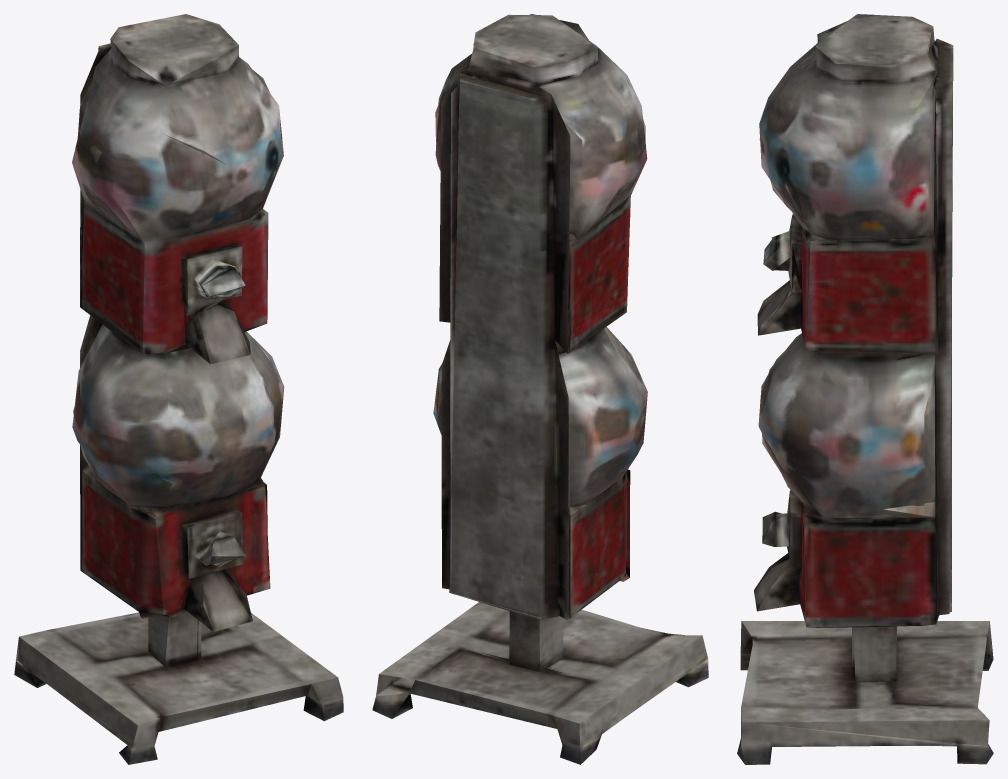
File: p7-capsule-toy-machine.glb
3 renders of one model, left to right at view 1: azimuth 30°, elevation 25°; view 2: azimuth 150°, elevation 25°; view 3: azimuth 270°, elevation 25°, orthographic. The views are drawn at different scales.
Visible parts, largest first — view 1: p7-capsule-toy-machine; view 2: p7-capsule-toy-machine; view 3: p7-capsule-toy-machine.
Boxes of the visible parts, x1,y1,x2,y2 form: p7-capsule-toy-machine: [14, 14, 343, 764]; p7-capsule-toy-machine: [372, 14, 708, 764]; p7-capsule-toy-machine: [737, 14, 993, 764].
Size of the model in its own units: 0.45 by 1.3 by 0.45.
1 material, 1 textured.
